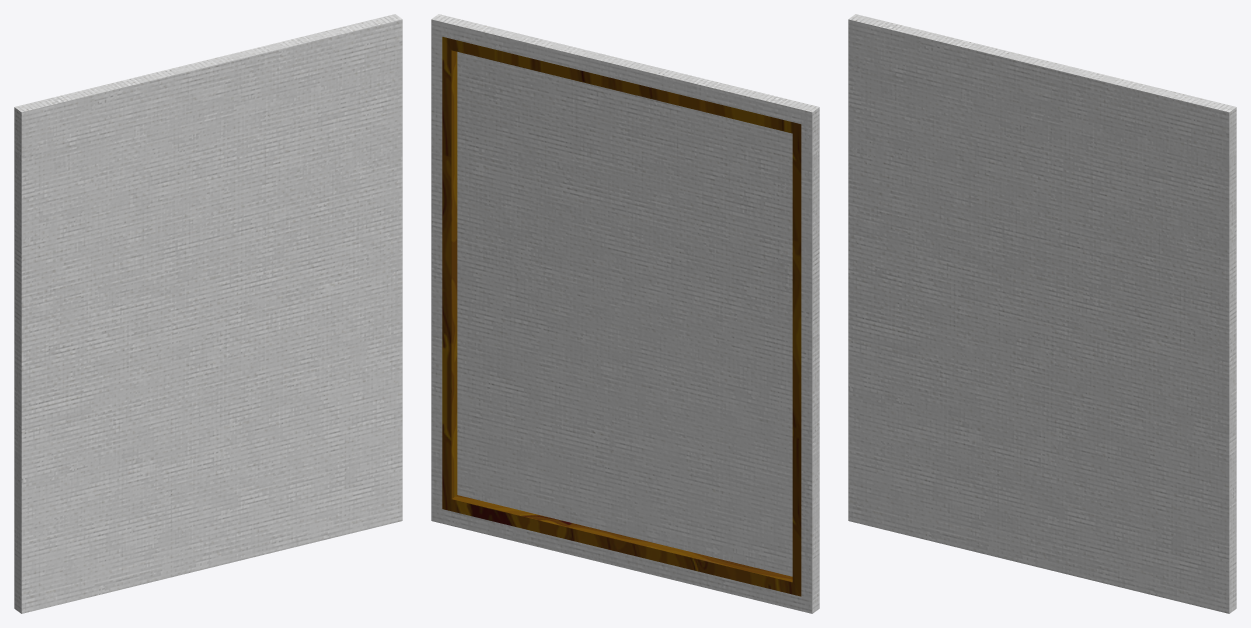
The model's file is painting-t1.glb.
3 renders of one model, left to right at view 1: azimuth 30°, elevation 25°; view 2: azimuth 150°, elevation 25°; view 3: azimuth 330°, elevation 25°, orthographic.
Visible parts, largest first — view 1: painting_canvas; view 2: painting_canvas (×2); view 3: painting_canvas.
Boxes of the visible parts, x1,y1,x2,y2 form: painting_canvas: [14, 14, 402, 613]; painting_canvas (×2): [431, 14, 819, 613]; painting_canvas: [848, 14, 1236, 613].
Size of the model in its own units: 3.17 by 3.98 by 0.1059.
Materials: 2 (2 with a texture image).
